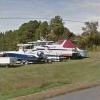Boat: (20, 36, 96, 61)
